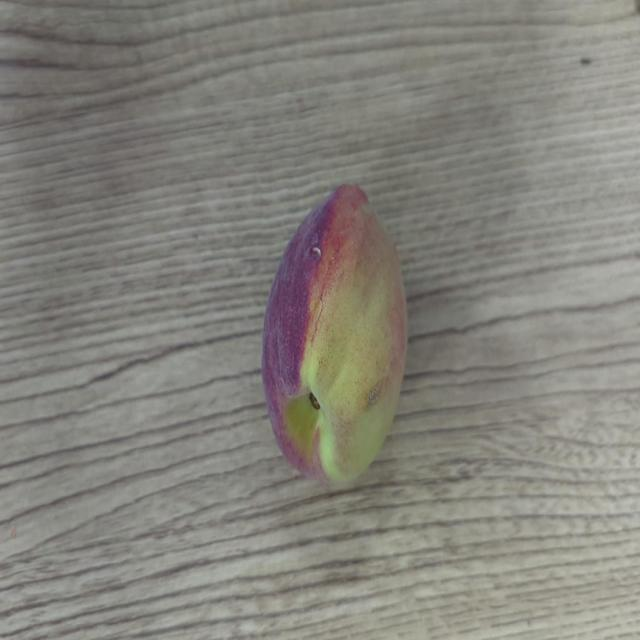Persik: (261, 179, 411, 493)
